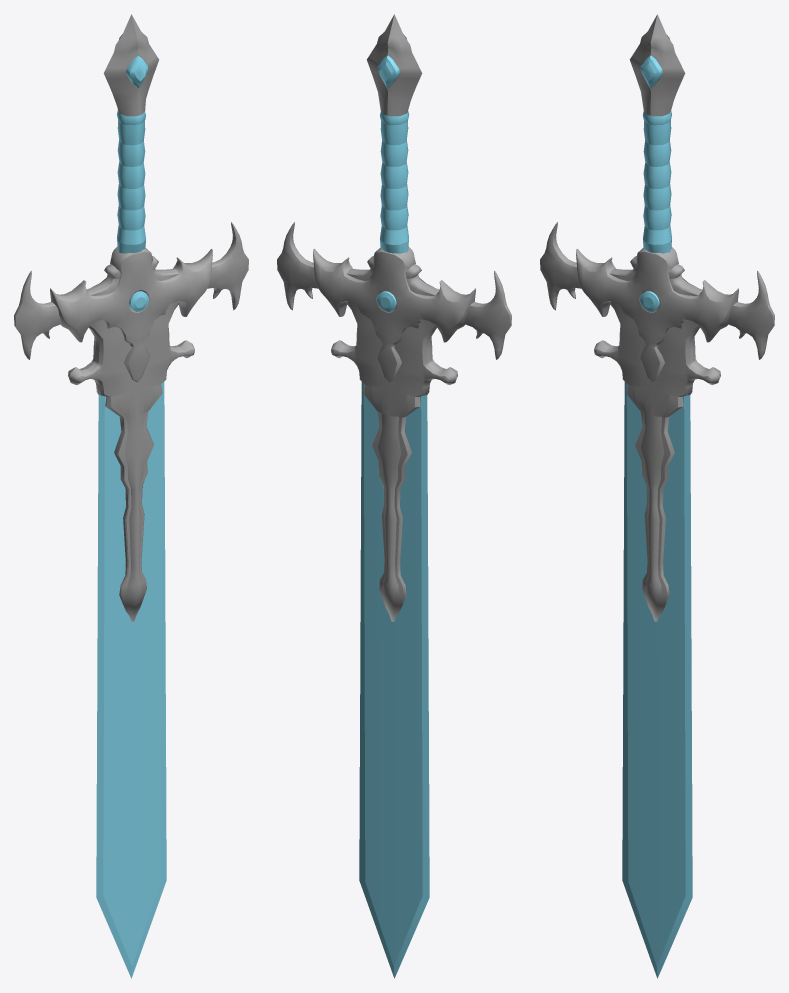
The model's file is Sword_Ashia.fbx.
3 renders of one model, left to right at view 1: azimuth 30°, elevation 25°; view 2: azimuth 150°, elevation 25°; view 3: azimuth 330°, elevation 25°, orthographic.
Parts seen in each view (by area): view 1: Sword_Ashia; view 2: Sword_Ashia; view 3: Sword_Ashia.
Boxes of the visible parts, x1,y1,x2,y2 form: Sword_Ashia: (14,14,248,978); Sword_Ashia: (277,14,511,978); Sword_Ashia: (540,14,774,978).
Size of the model in its own units: 4.45 by 17.54 by 0.6392.
